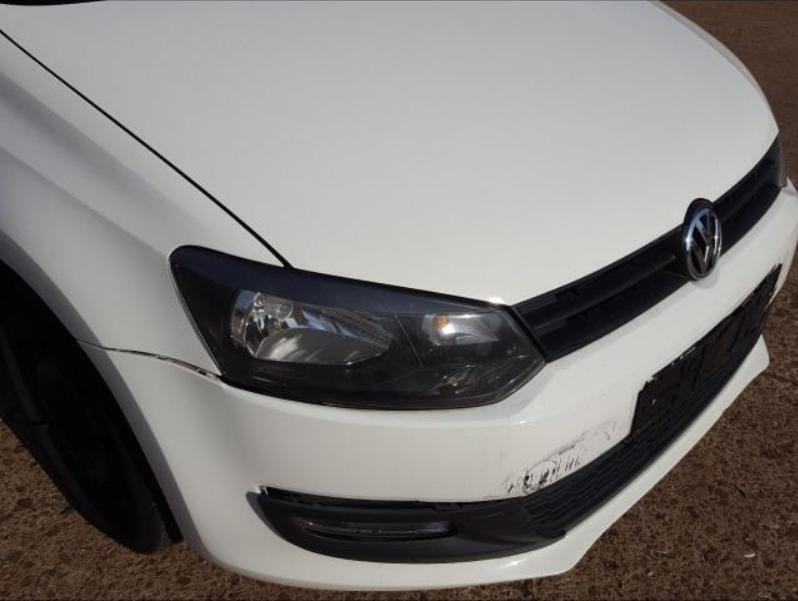Fender: (0, 32, 283, 375)
Front-bumper: (76, 178, 798, 590)
Front-wheel: (0, 261, 185, 558)
Grille: (510, 136, 781, 362)
Headlight: (168, 245, 544, 409)
Hood: (0, 0, 779, 305)
License-plate: (631, 264, 779, 435)
